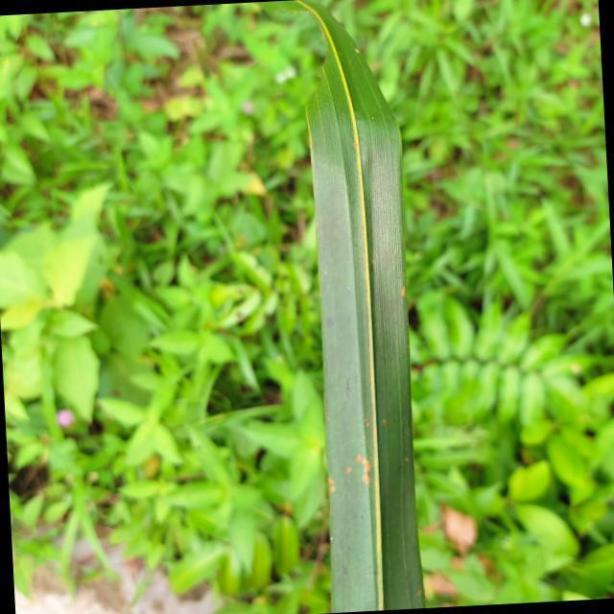Boron: (301, 0, 430, 614)
